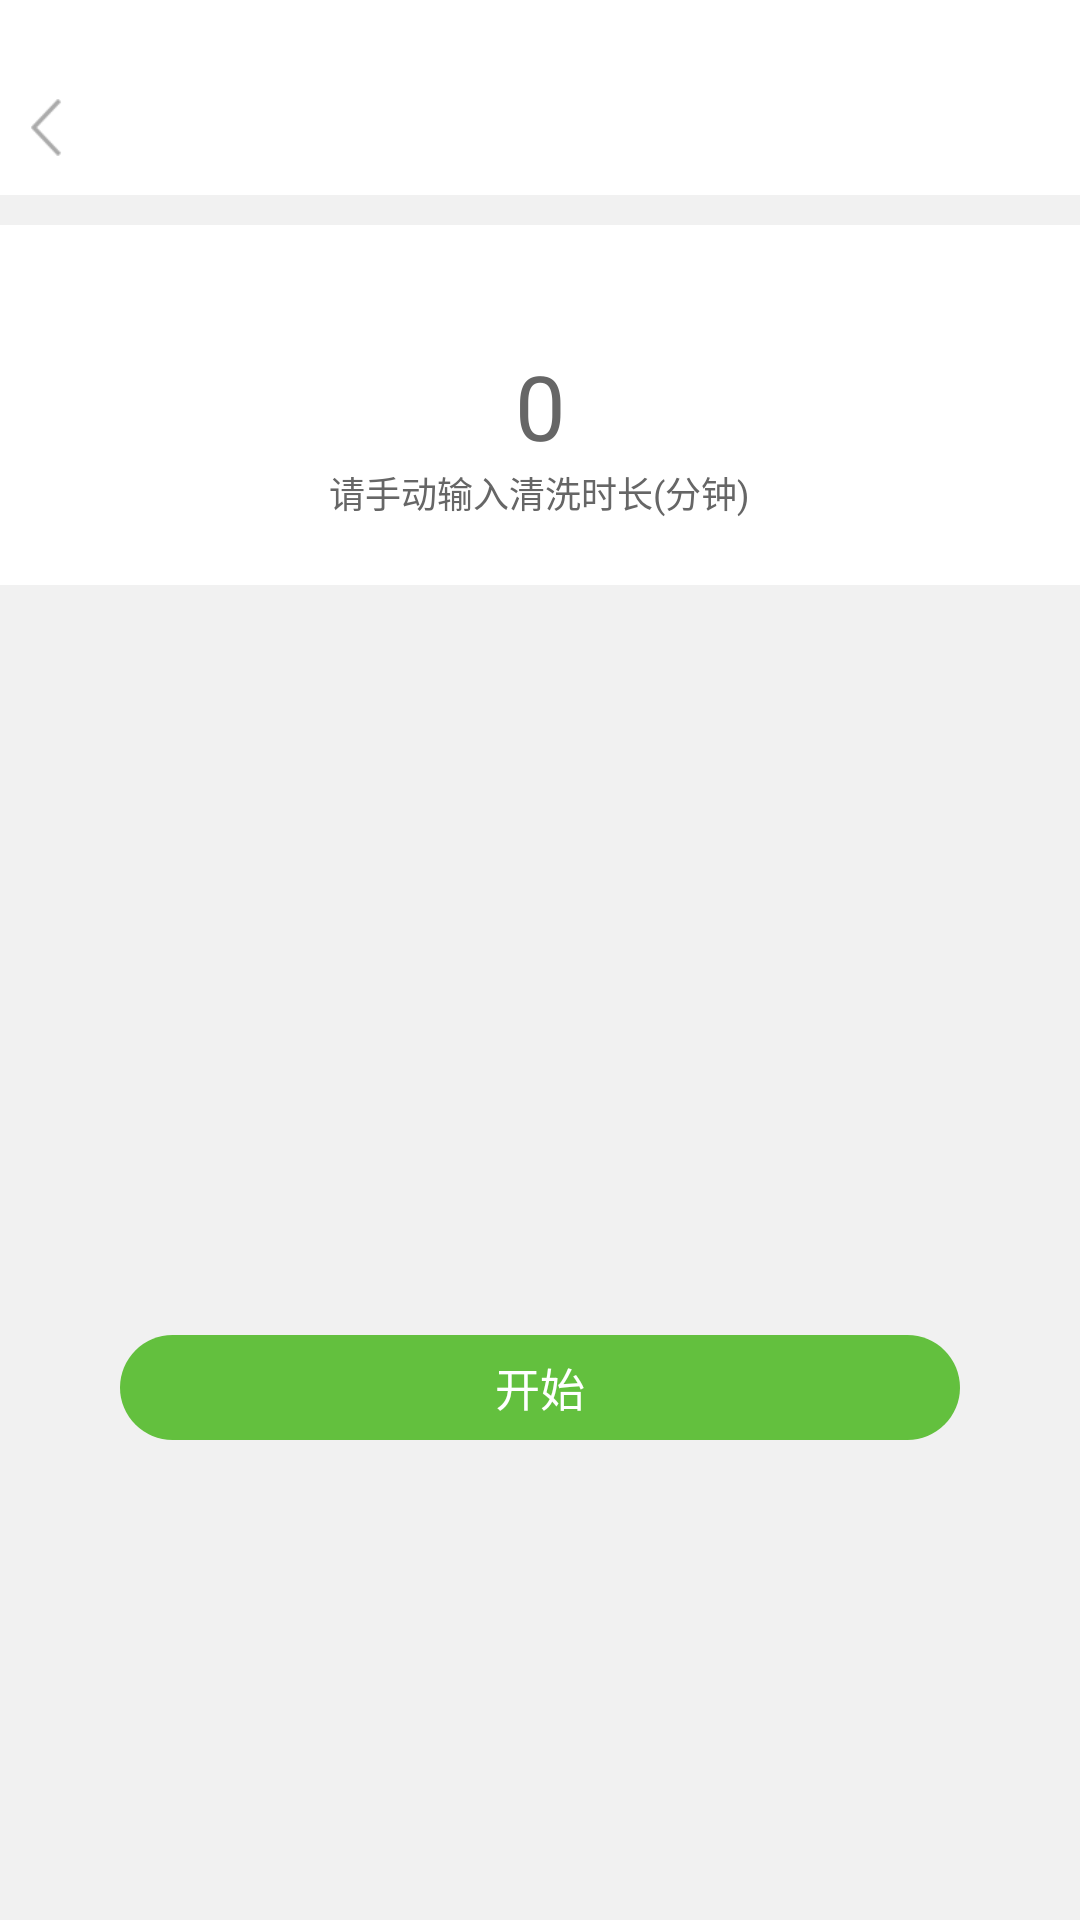

Icon bounding boxes for this 1080*1920 phone screenshot, format (x1, y1, x2, y2):
back: (31, 99, 61, 156)
